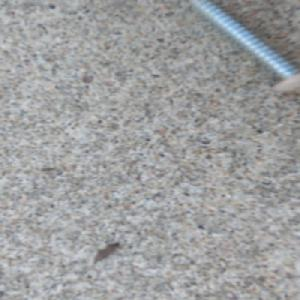Screw: (186, 0, 300, 93)
